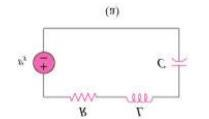inductor: (114, 89, 161, 106)
